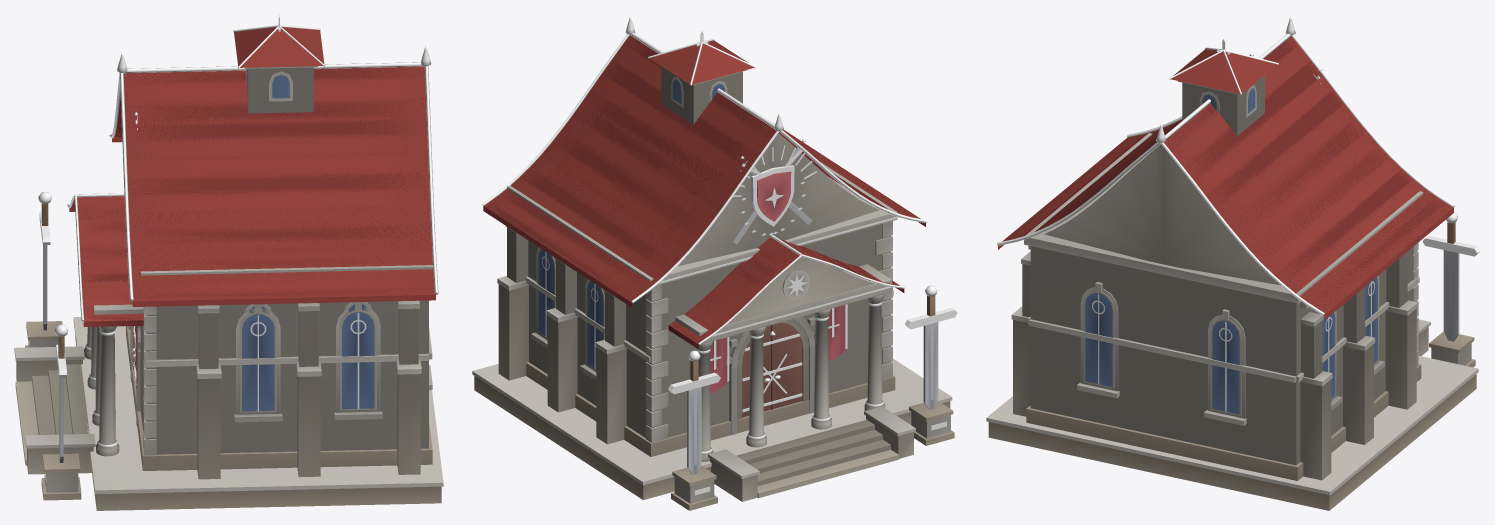
Rendered from sword_hq.glb.
3 views of the same model, side by side, from view 1: azimuth 30°, elevation 25°; view 2: azimuth 150°, elevation 25°; view 3: azimuth 270°, elevation 25° (orthographic). The views are drawn at different scales.
Visible parts, largest first — view 1: Sword_stone, Sword_roof, Sword_props, Sword_gold; view 2: Sword_stone, Sword_roof, Sword_props, Sword_gold; view 3: Sword_stone, Sword_roof, Sword_props, Sword_gold.
Boxes of the visible parts, <box> form: Sword_stone: <box>14,66,443,510</box>; Sword_roof: <box>69,27,435,326</box>; Sword_props: <box>41,69,374,462</box>; Sword_gold: <box>28,14,438,482</box>; Sword_stone: <box>472,66,954,510</box>; Sword_roof: <box>483,35,925,349</box>; Sword_props: <box>538,80,938,474</box>; Sword_gold: <box>482,14,957,495</box>; Sword_stone: <box>986,75,1478,510</box>; Sword_roof: <box>998,36,1453,319</box>; Sword_props: <box>1085,74,1459,414</box>; Sword_gold: <box>997,15,1480,411</box>.
Bounding box in the file's own units: 15.31 × 12.99 × 15.25.
